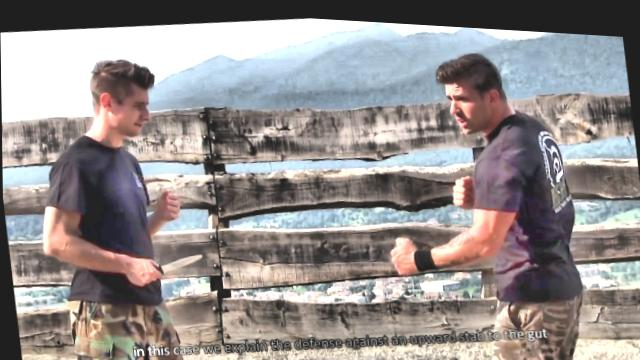knife: (121, 242, 212, 292)
